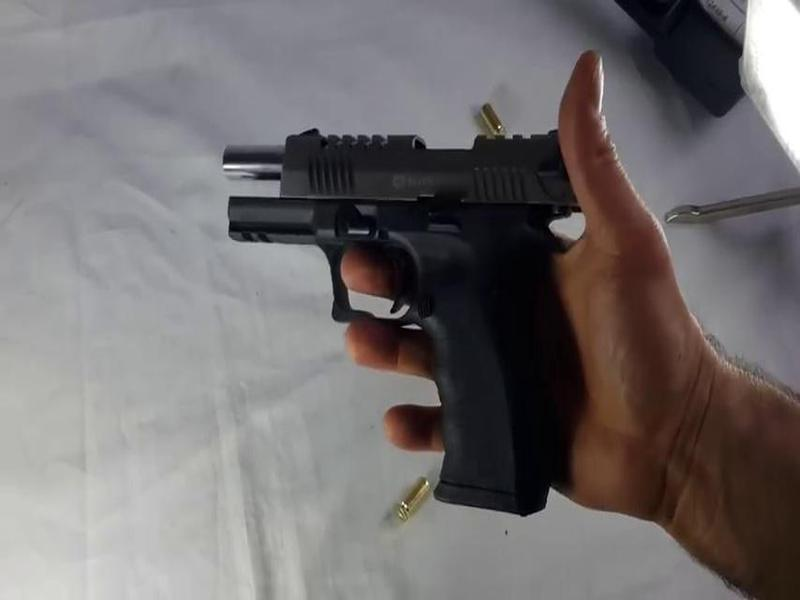Pistola: (177, 85, 629, 535)
